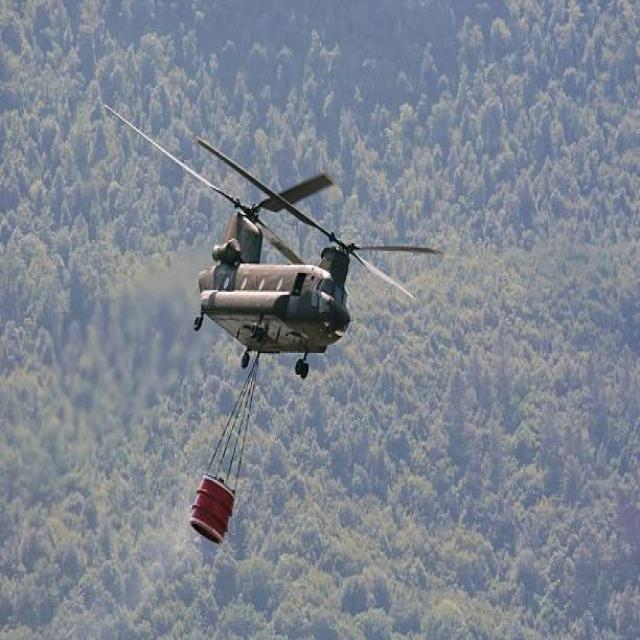Helicopter: (115, 90, 450, 392)
